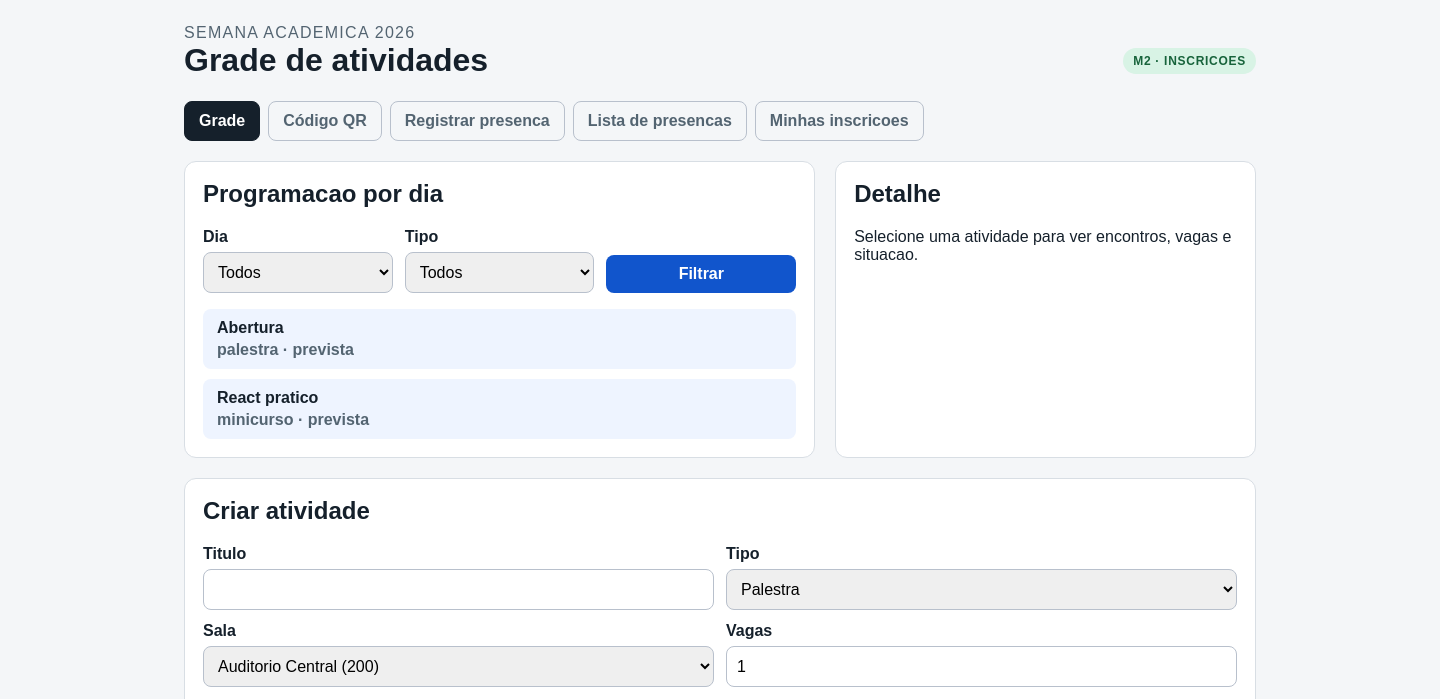
Test: M2 inscricoes › permite cancelar uma inscricao no detalhe da atividade
Click the button "React pratico minicurso · prevista" at (268, 397), box [203,379,796,439]
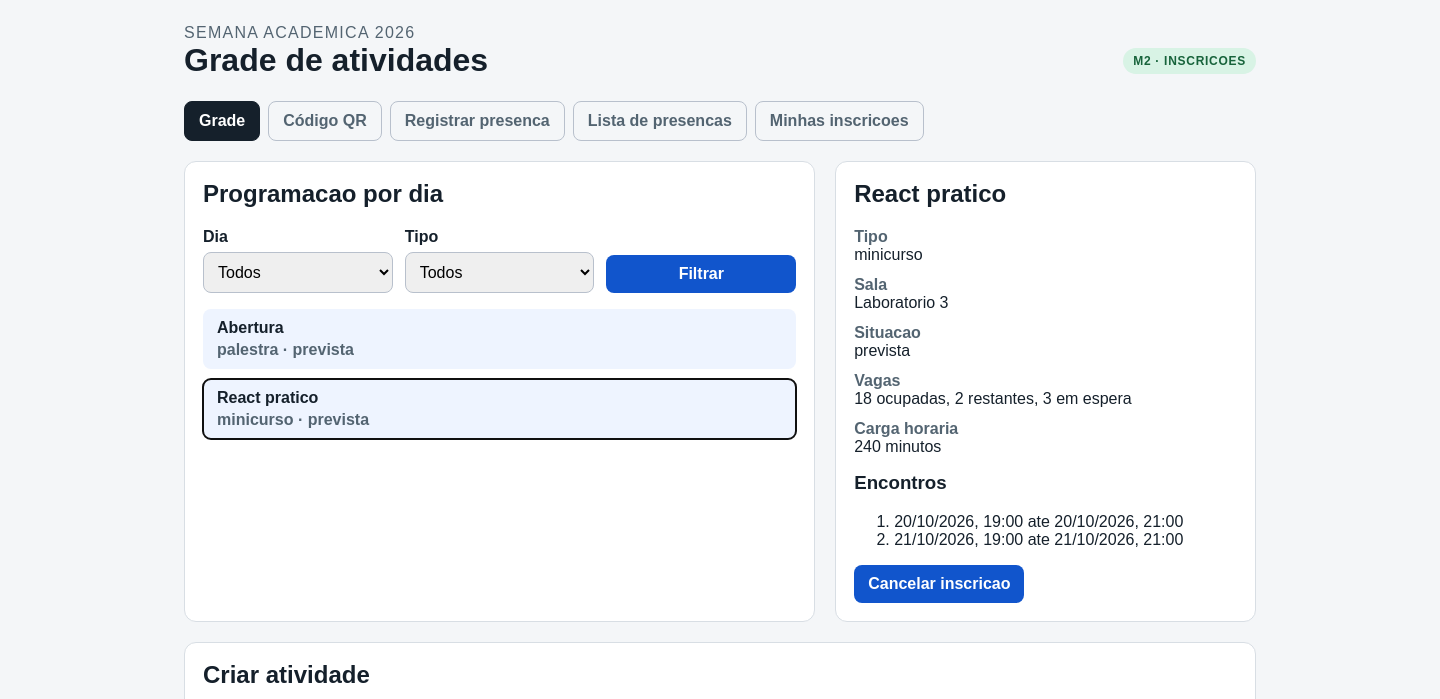
Click the button "Cancelar inscricao" at (939, 584), box [854,565,1024,603]
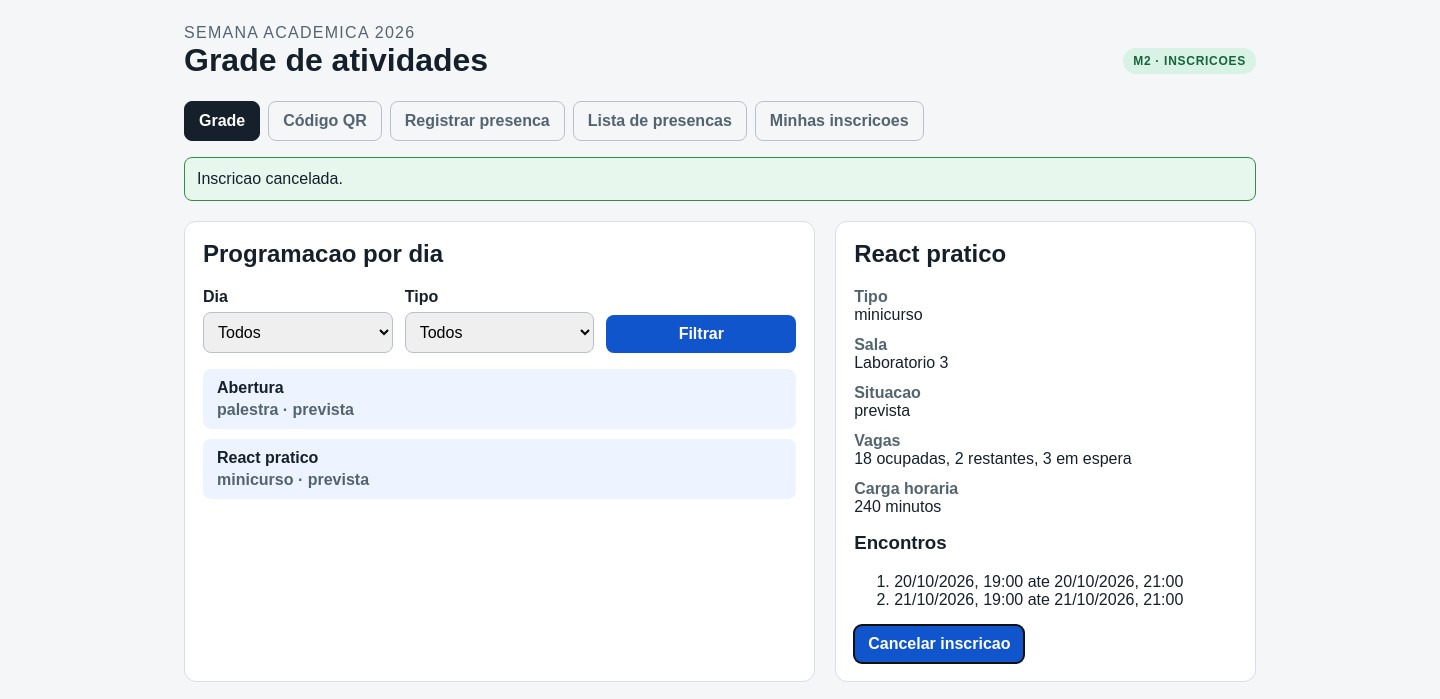
Result: the text "Inscricao cancelada." is shown at [184,157,1256,201]
